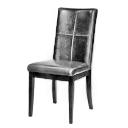chair_success: (20, 4, 105, 125)
